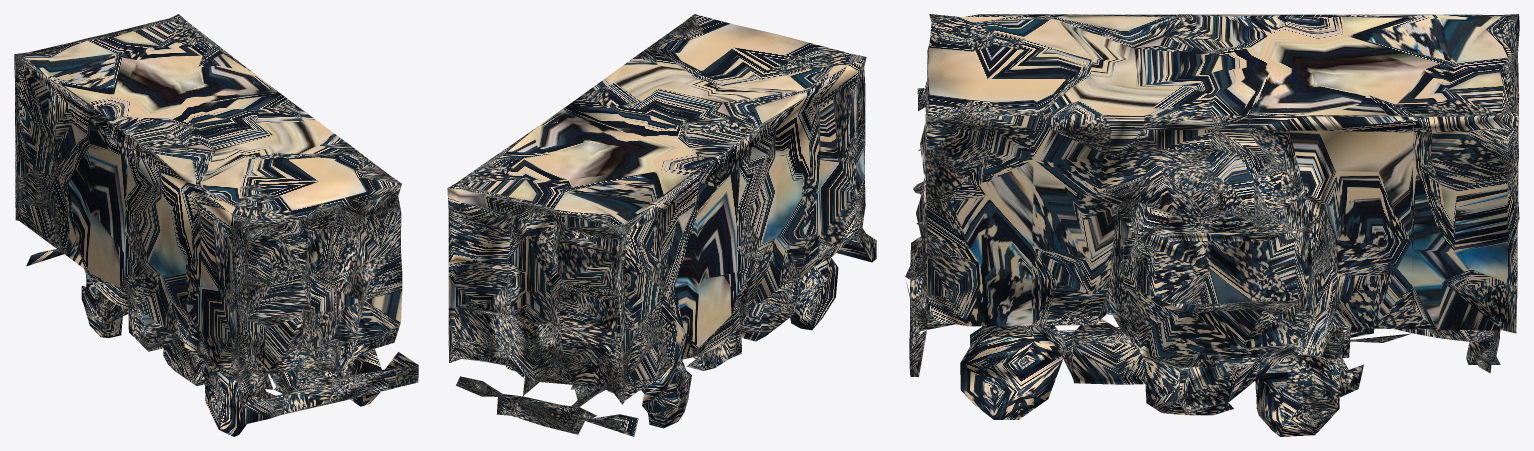
The model's file is boxtruck.far.glb.
The picture shows the model from 3 angles, left to right: view 1: azimuth 30°, elevation 25°; view 2: azimuth 150°, elevation 25°; view 3: azimuth 270°, elevation 25°; orthographic projection. The views are drawn at different scales.
Size of the model in its own units: 0.9603 by 1.05 by 1.88.
1 material, 1 textured.
